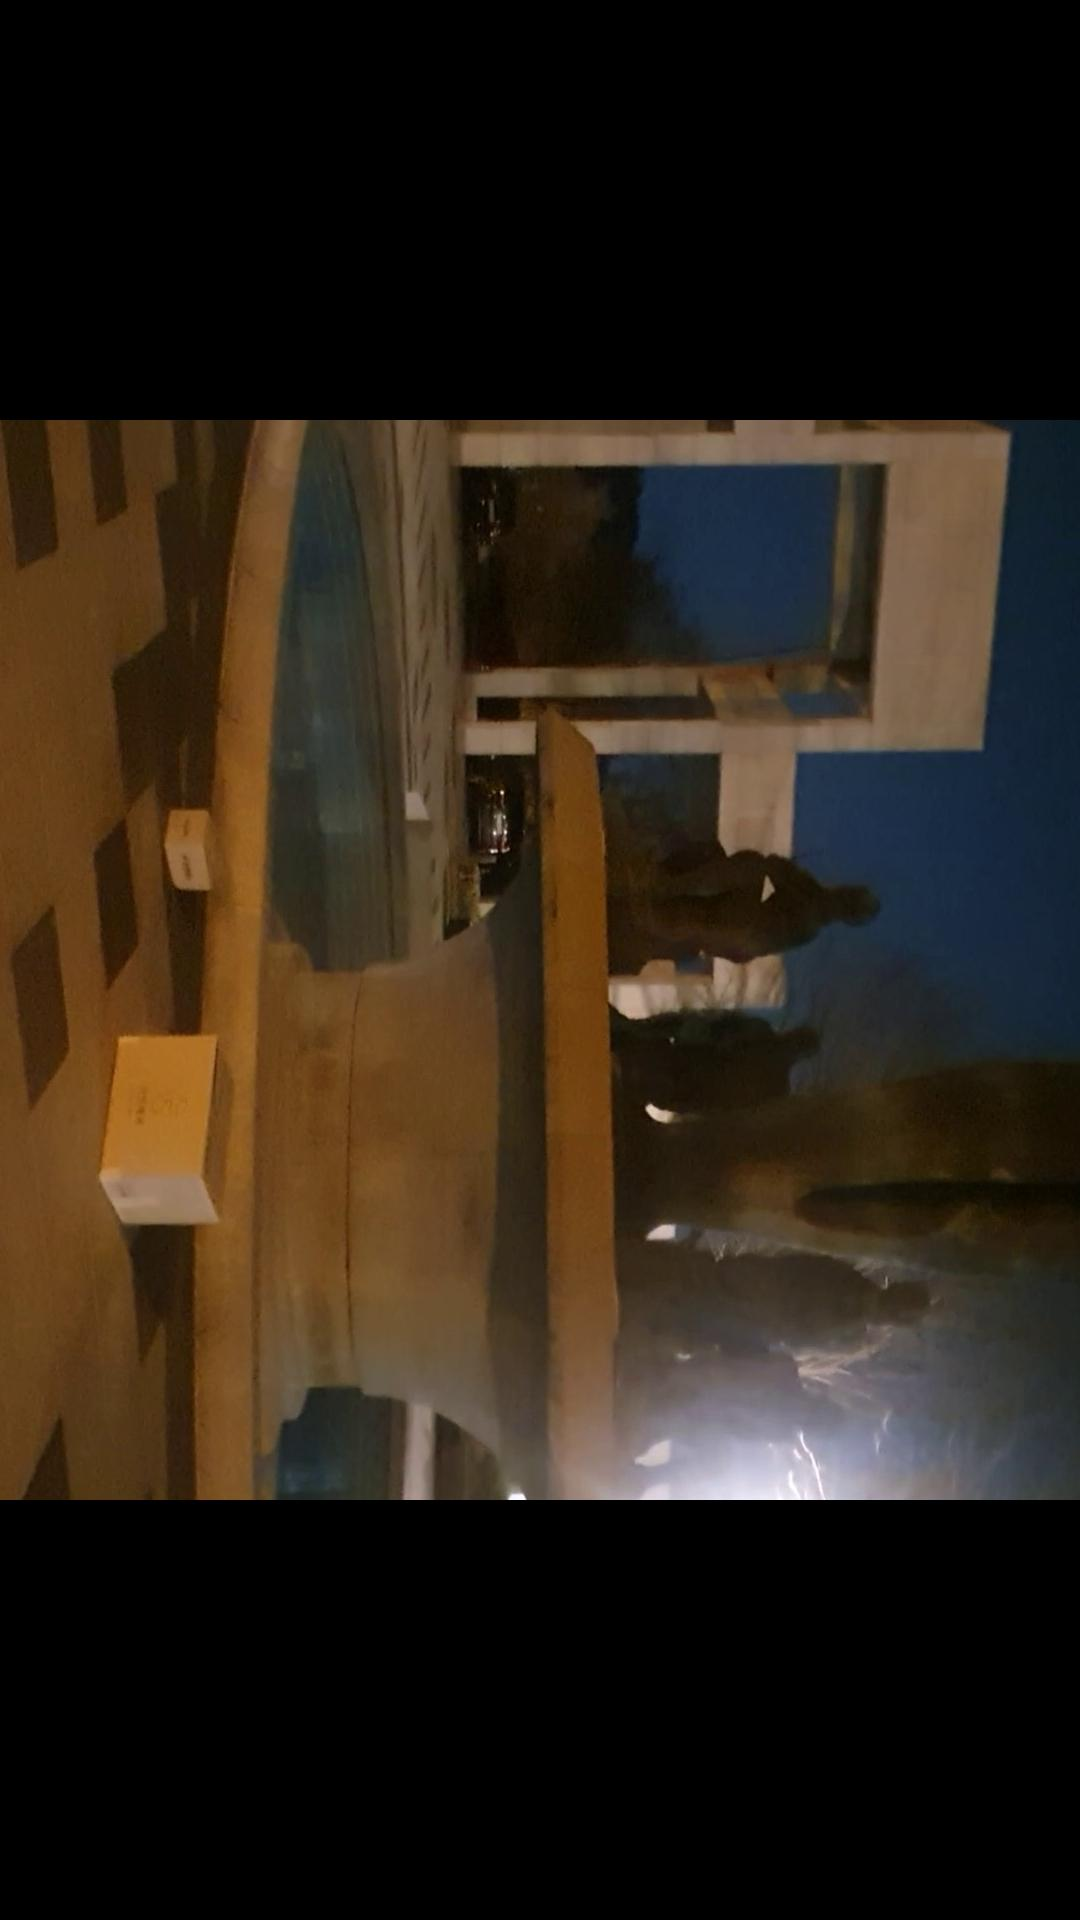Box: (102, 1026, 232, 1226), (160, 808, 225, 890)
